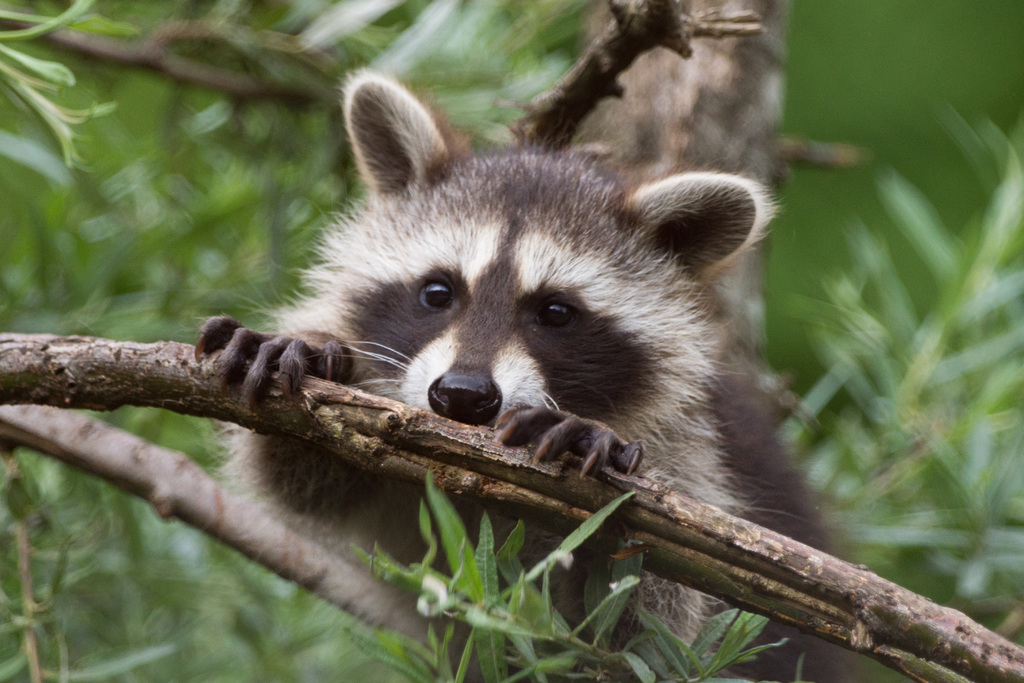raccoon: (195, 71, 823, 644)
